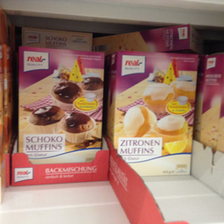cake: (108, 49, 202, 182), (16, 44, 106, 180)
